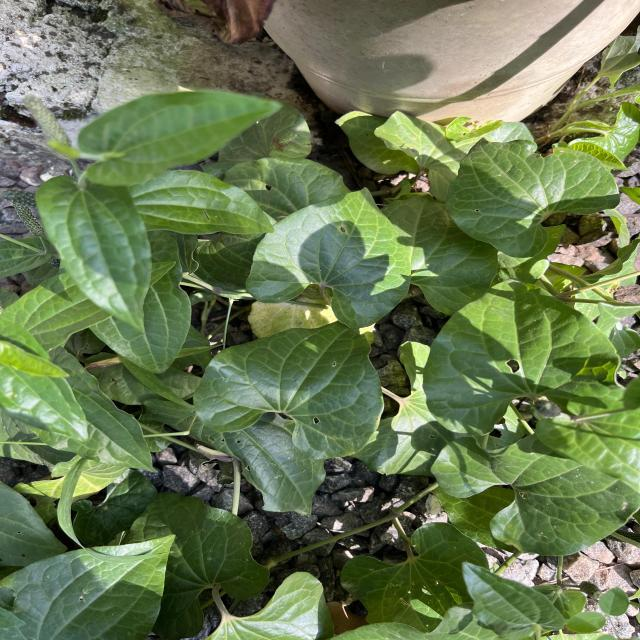Piper longum: (191, 319, 386, 462), (241, 184, 413, 330), (442, 134, 623, 258)
